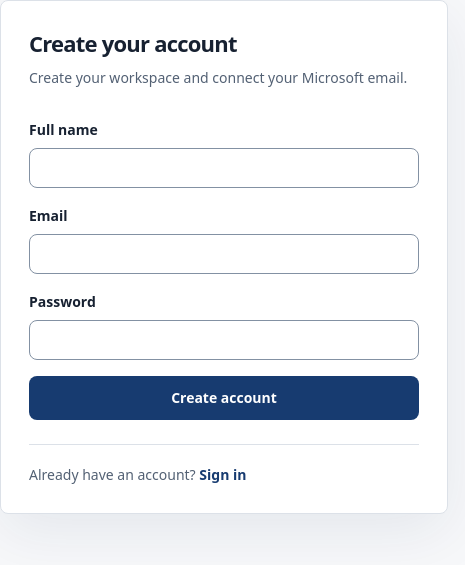
password validation at sign-in › retains the minimum length when creating a new password
Type "Test User" into the field labelled "Full name" at [224, 168], box x1=29 y1=148 x2=419 y2=188
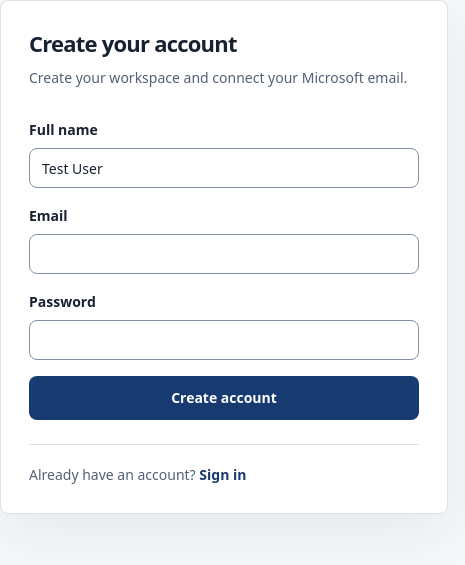
Type "user@example.com" into the field labelled "Email" at [224, 254], box x1=29 y1=234 x2=419 y2=274
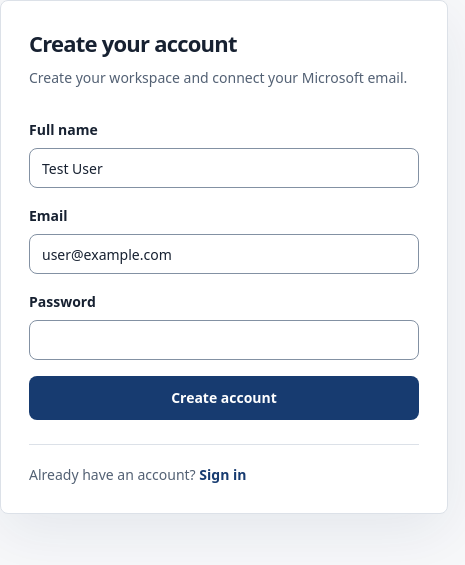
Type "test" into the password field labelled "Password" at [224, 340], box x1=29 y1=320 x2=419 y2=360
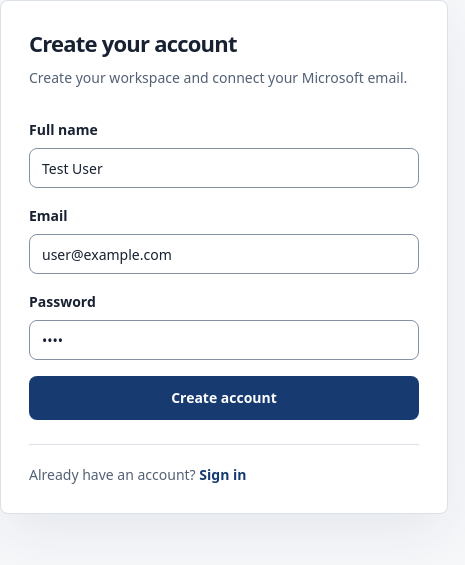
Click the button "Create account" at [224, 398], box x1=29 y1=376 x2=419 y2=420
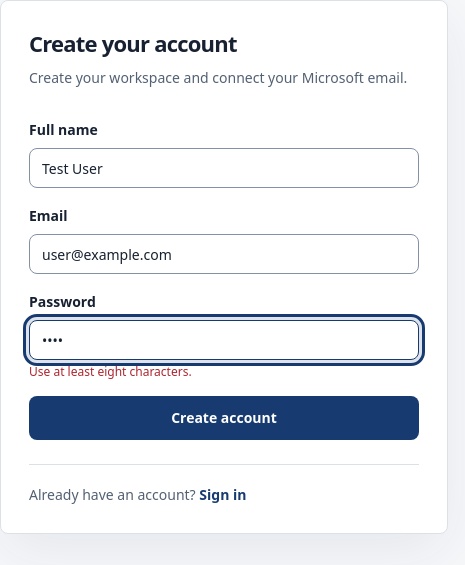
Expected: the text "Use at least eight characters." is shown, x1=29 y1=363 x2=192 y2=380
